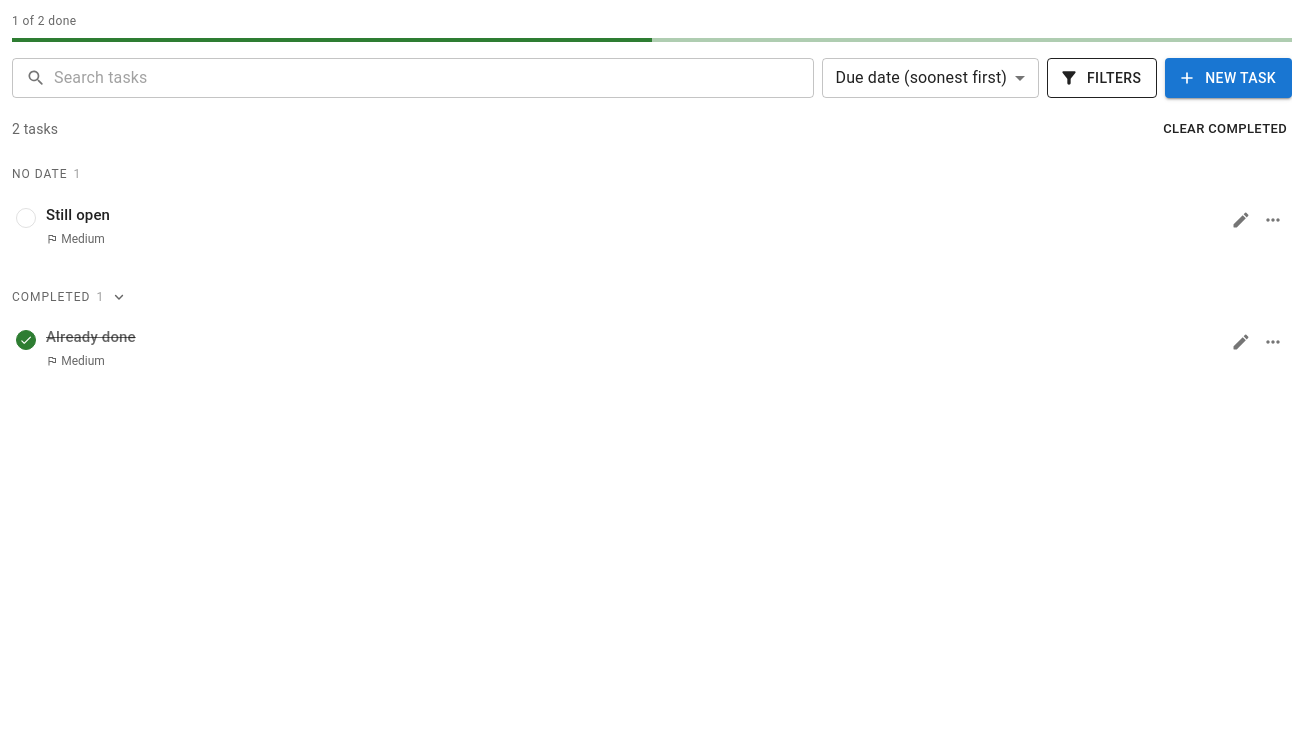
Scenario: TaskDashboard › clears completed tasks in bulk and offers an undo
Click the button "Clear completed" at (1225, 129), box left=1158, top=114, right=1292, bottom=145
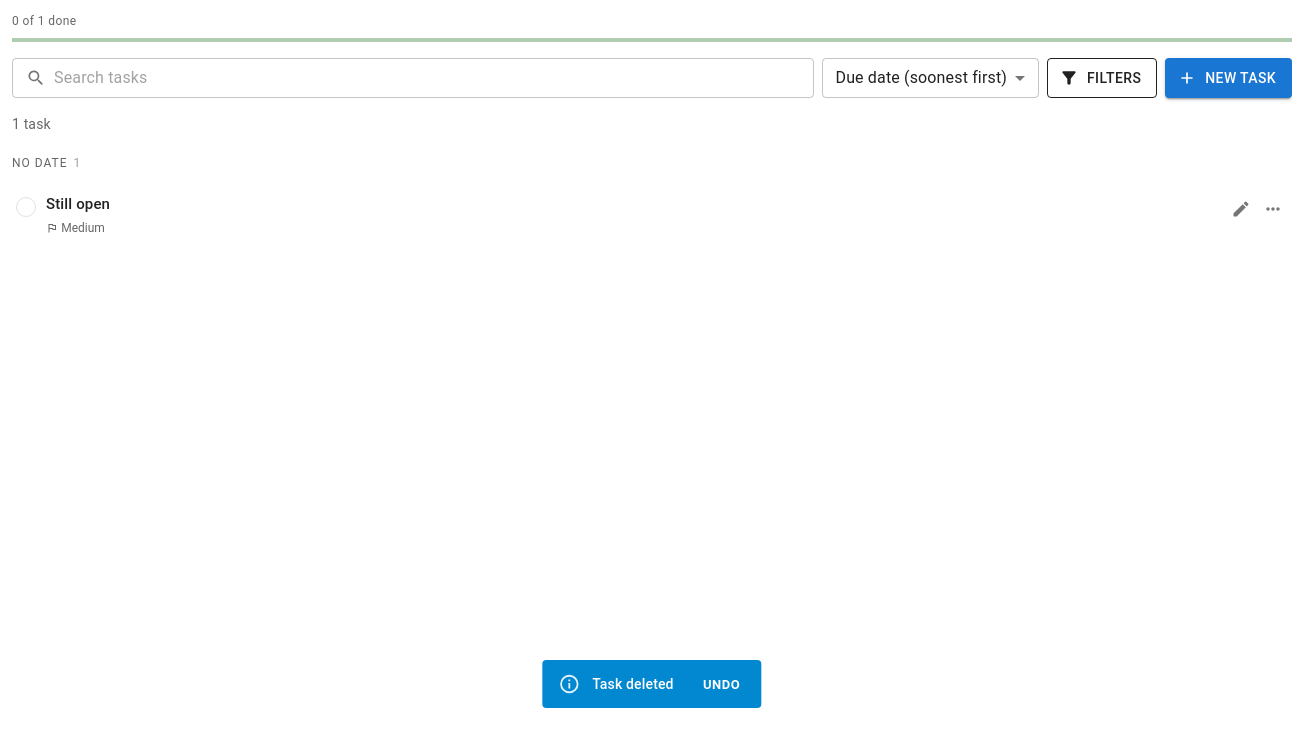
Expected: the text "Still open" is shown, left=46, top=195, right=110, bottom=213
Expected: the text "Already done" is gone
Click the button "Undo" at (722, 685), box left=690, top=670, right=754, bottom=701
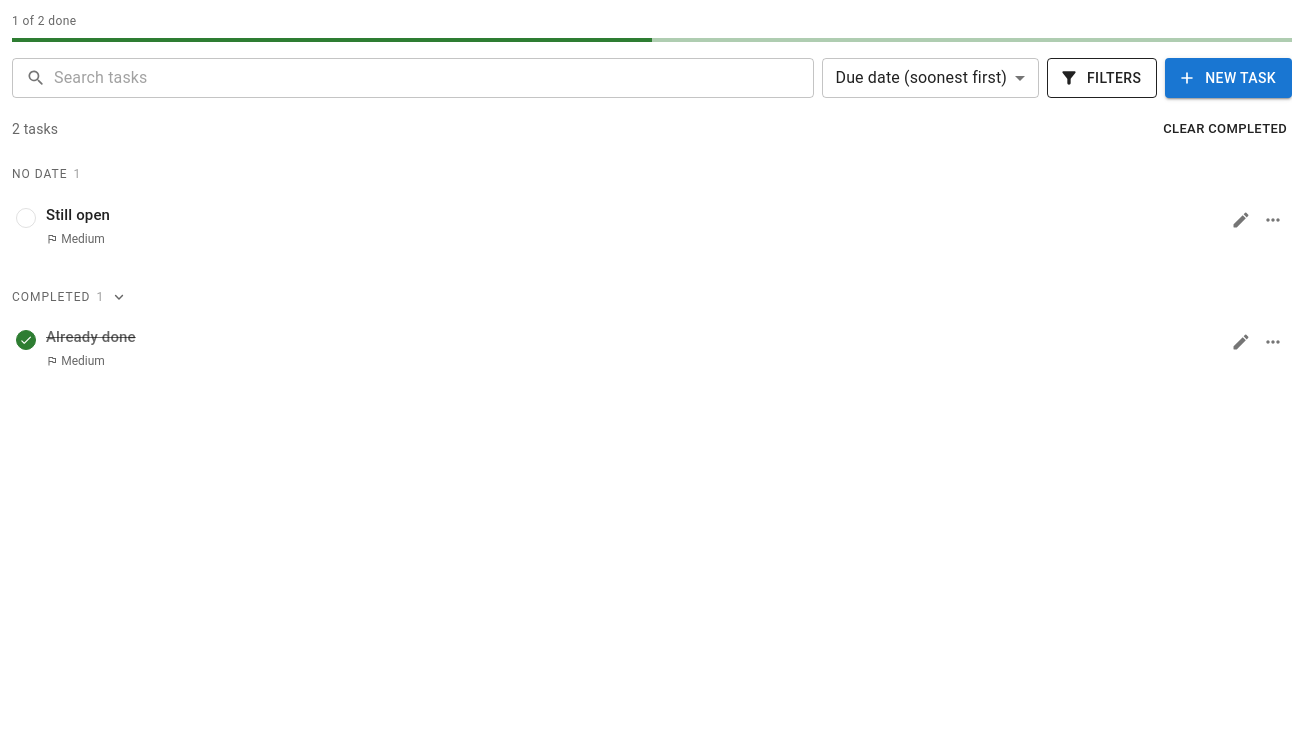
Expected: the text "Already done" is shown, left=46, top=328, right=136, bottom=346
